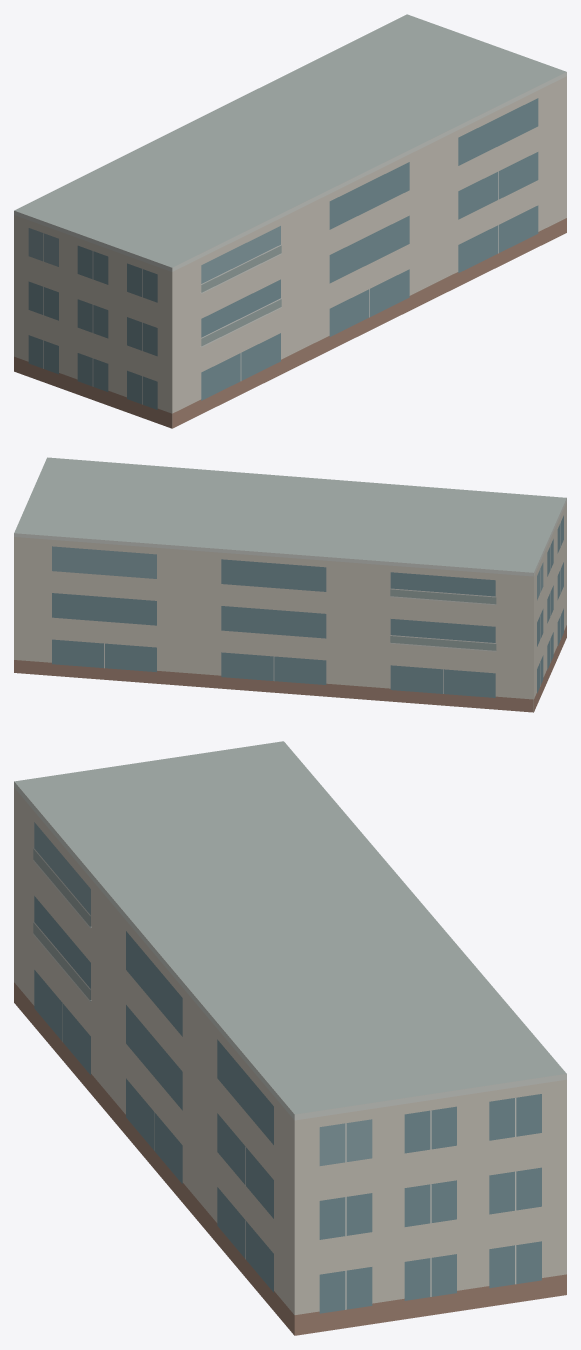
Rendered from survey-upis-32864031.glb.
3 views of the same model, one above another, from view 1: azimuth 30°, elevation 25°; view 2: azimuth 150°, elevation 25°; view 3: azimuth 270°, elevation 25° (orthographic). The views are drawn at different scales.
Visible parts, largest first — view 1: survey-upis-32864031.tmp; view 2: survey-upis-32864031.tmp; view 3: survey-upis-32864031.tmp.
Boxes of the visible parts, <box> form: survey-upis-32864031.tmp: <box>14,14,566,428</box>; survey-upis-32864031.tmp: <box>14,457,566,712</box>; survey-upis-32864031.tmp: <box>14,741,566,1335</box>.
Size of the model in its own units: 33.14 by 9.15 by 20.73.
